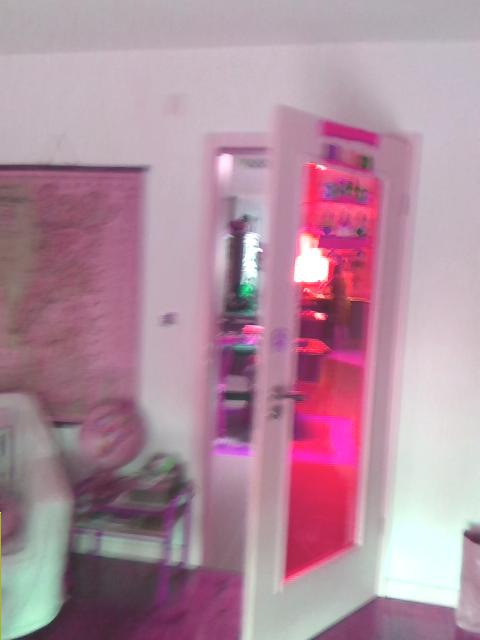semi_door: (192, 95, 421, 639)
